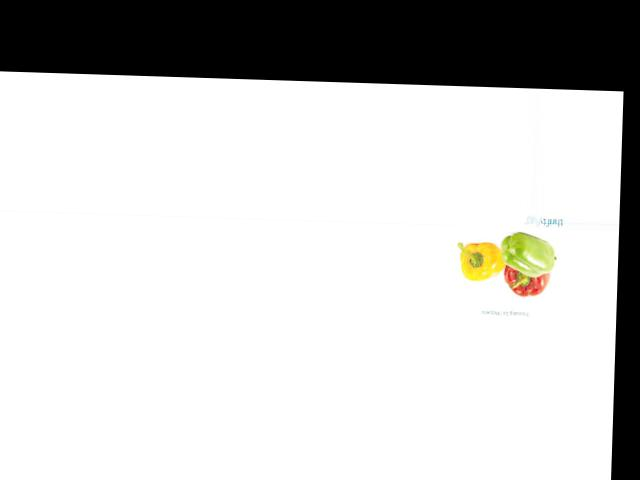bell_pepper: (495, 226, 558, 276)
